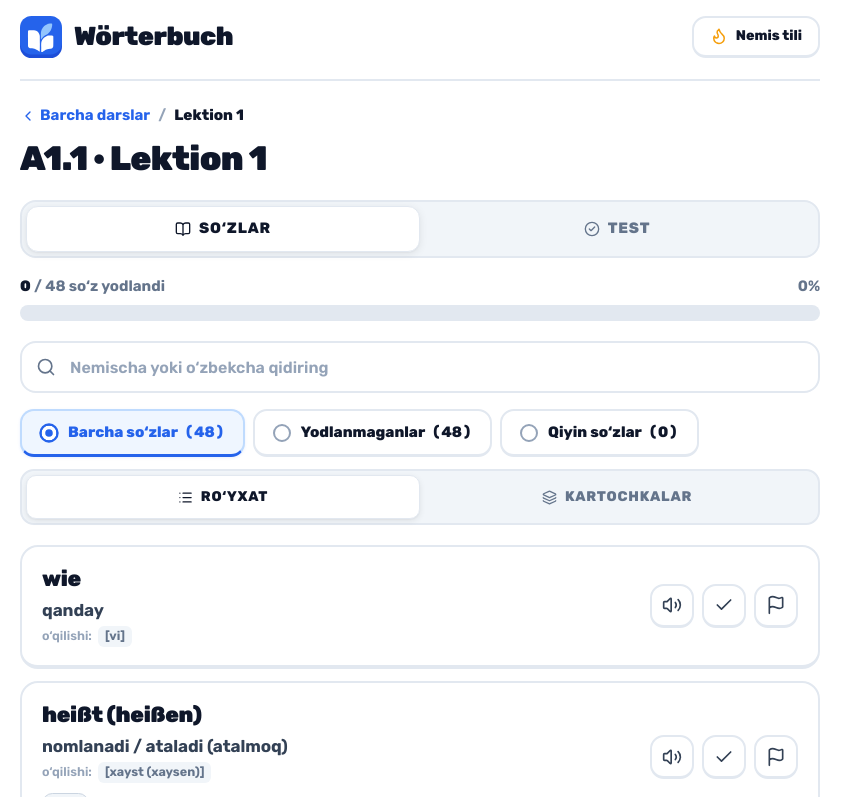
Test: vocabulary page › searches German (umlaut-insensitive) and Uzbek, with an empty state
Type "turkei" into the search field at (420, 367), box [20,341,820,393]
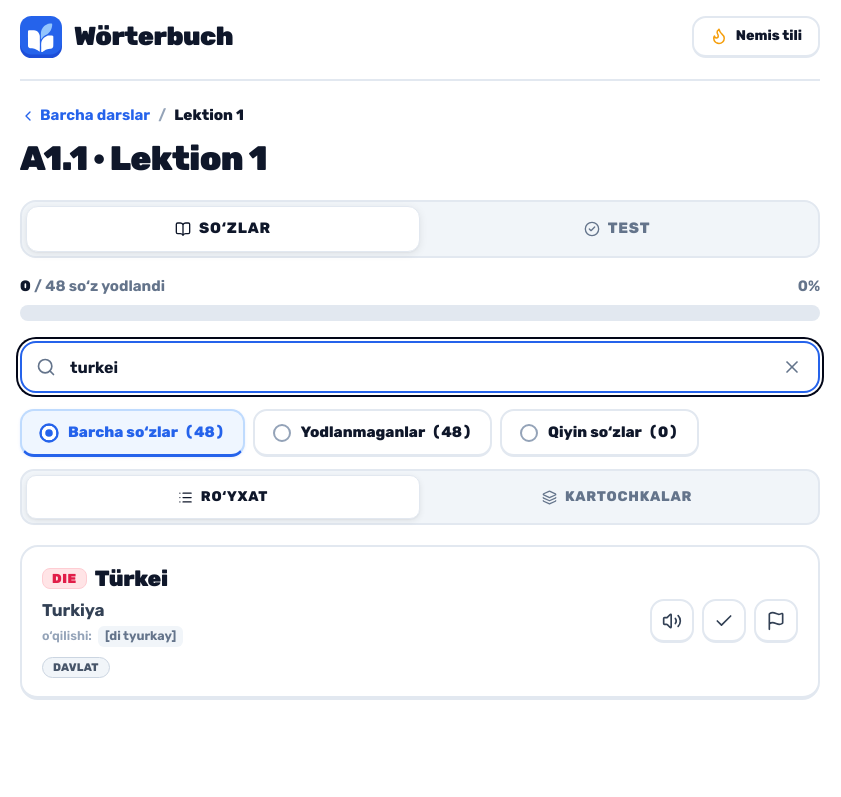
expect the number of list items is 1: met, box [20,545,820,700]
Replace the text in the search field with "salom" at (420, 367), box [20,341,820,393]
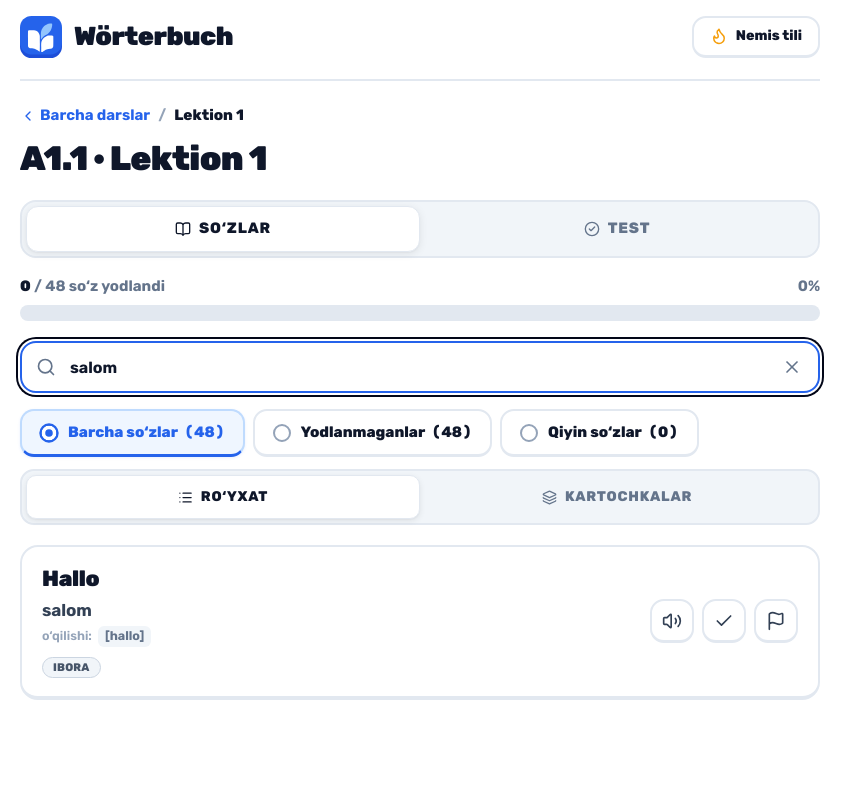
expect the text "Hallo" is shown: met, box [42,565,99,593]
Replace the text in the search field with "zzzz" at (420, 367), box [20,341,820,393]
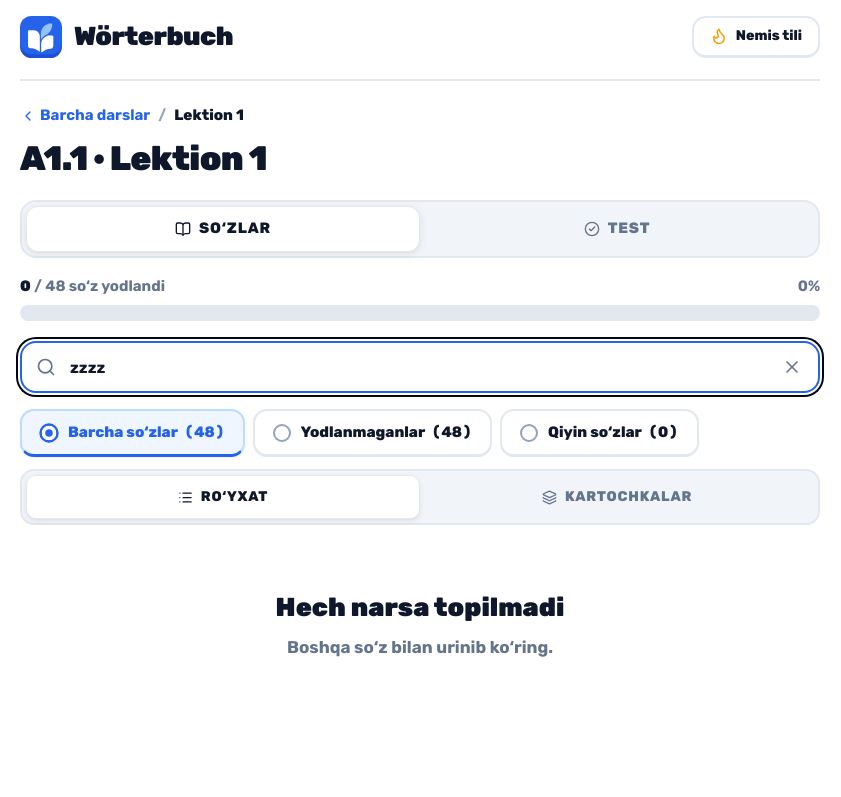
expect the heading "Hech narsa topilmadi" is shown: met, box [276,592,564,623]
